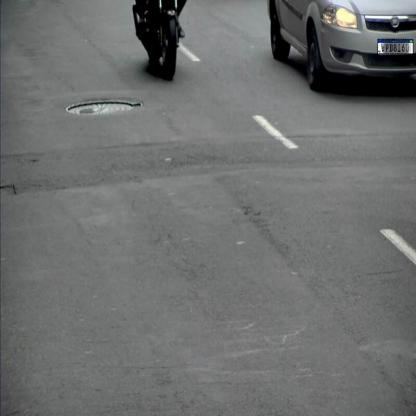PlacaM: (378, 39, 414, 54)
